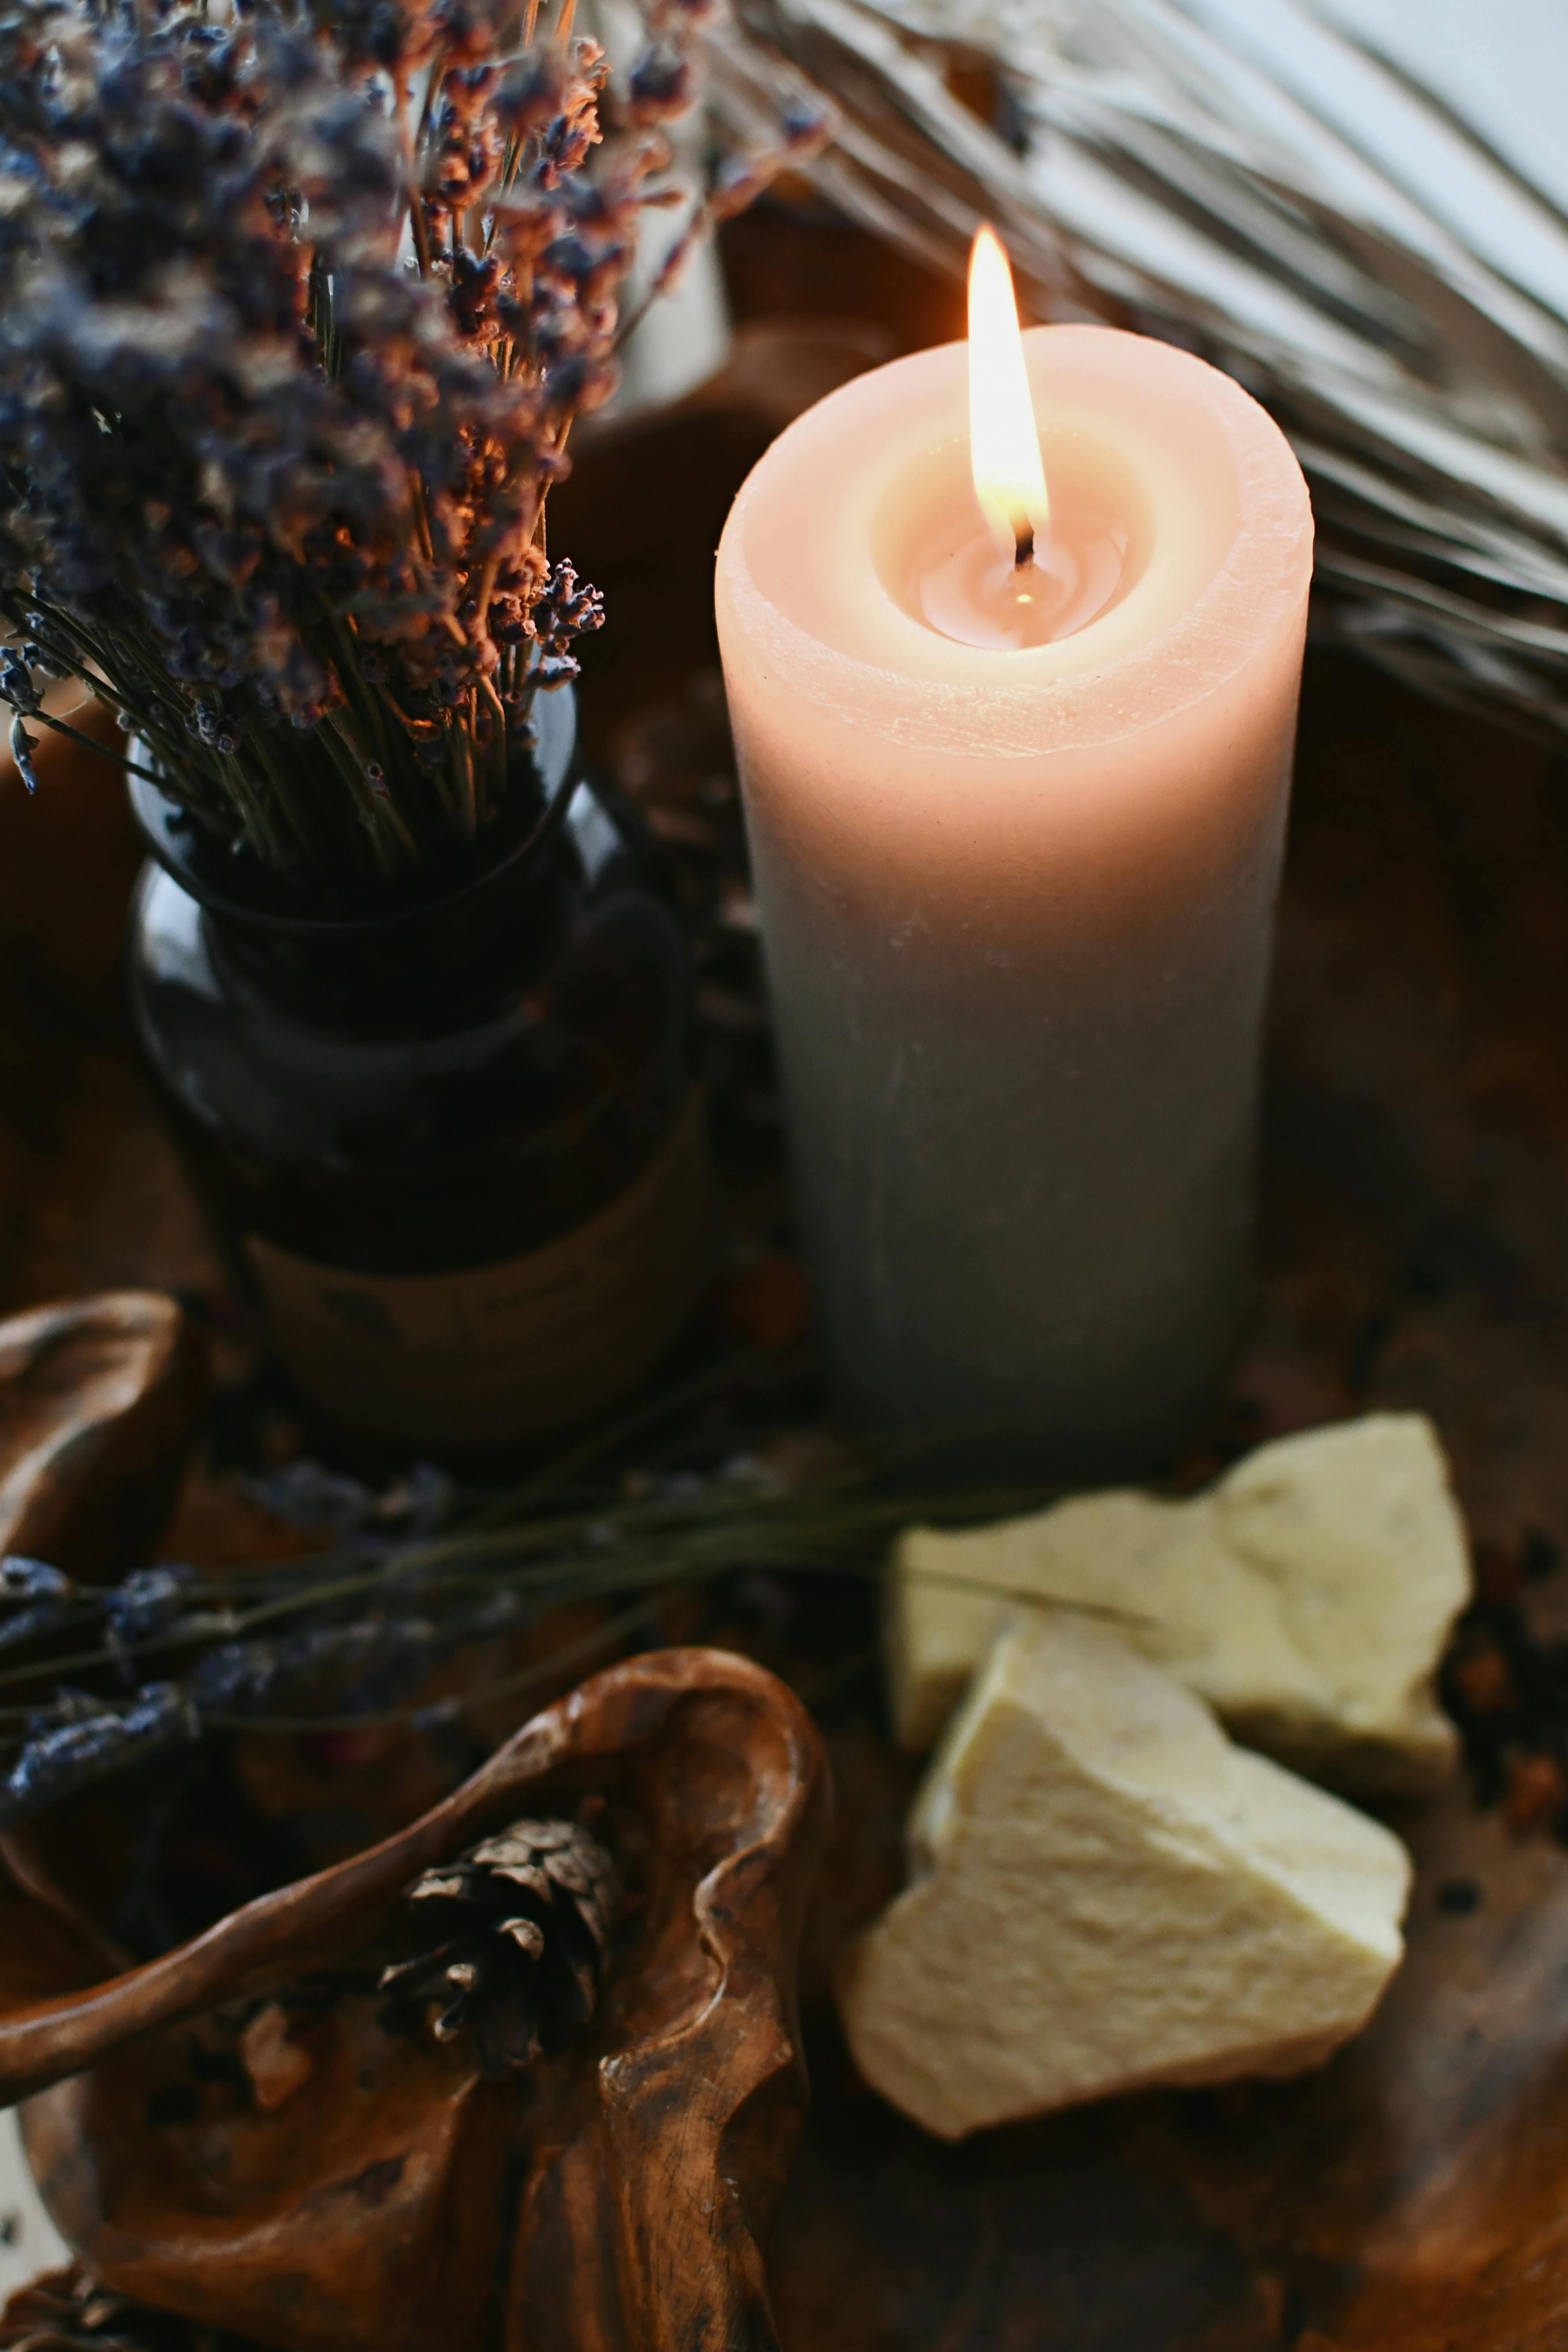Fire: (945, 212, 1069, 590)
